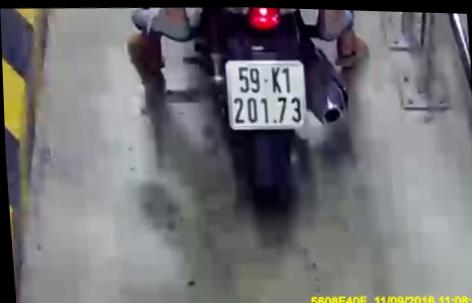LP: (222, 54, 308, 131)
